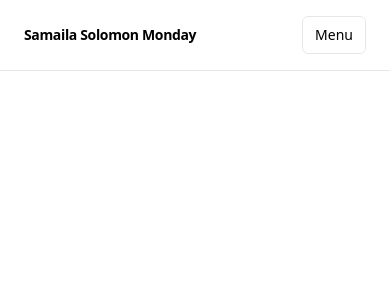
Test: Navigation › opens mobile menu on button click
Click the button with aria-label "open menu": (334, 35) [302, 16, 366, 54]
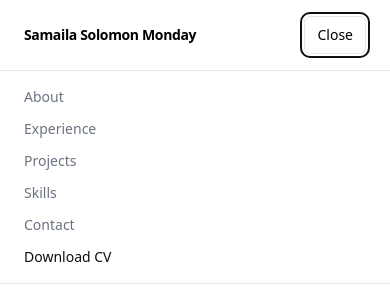
Now the element with id "mobile-menu" is shown
Now the button named "open menu" is expanded, box [304, 16, 366, 54]
